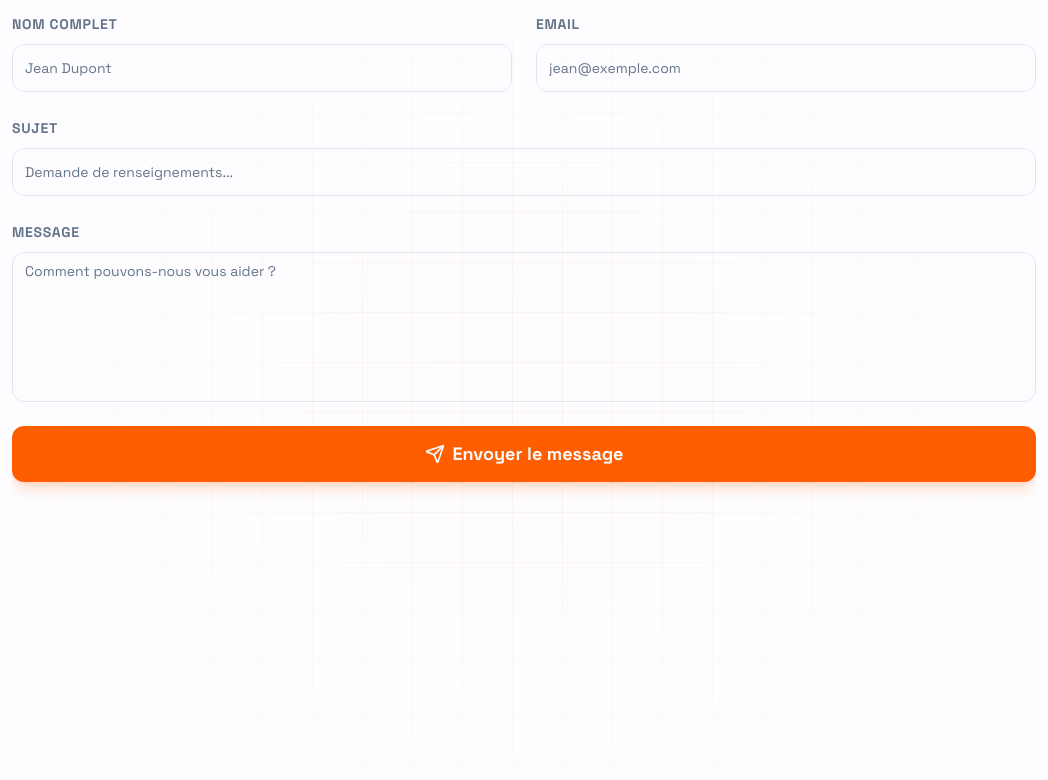
Test: ContactForm › shows validation errors on empty submission
This screenshot has width=1048, height=780.
What coordinates should you click on to do the following:
click the button "Envoyer le message"
I would click on:
 (524, 454)
Its box is x1=12 y1=426 x2=1036 y2=482.
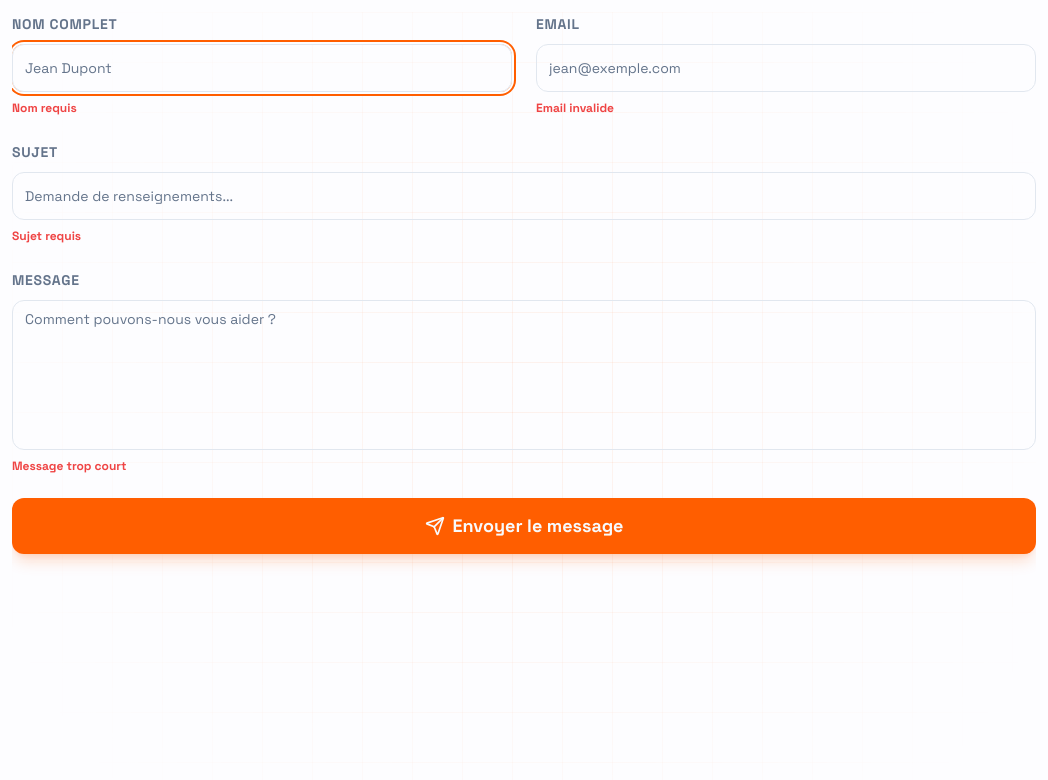
Expected: the text "Nom requis" is shown, x1=12 y1=100 x2=77 y2=116
Expected: the text "Email invalide" is shown, x1=536 y1=100 x2=614 y2=116
Expected: the text "Sujet requis" is shown, x1=12 y1=228 x2=81 y2=244
